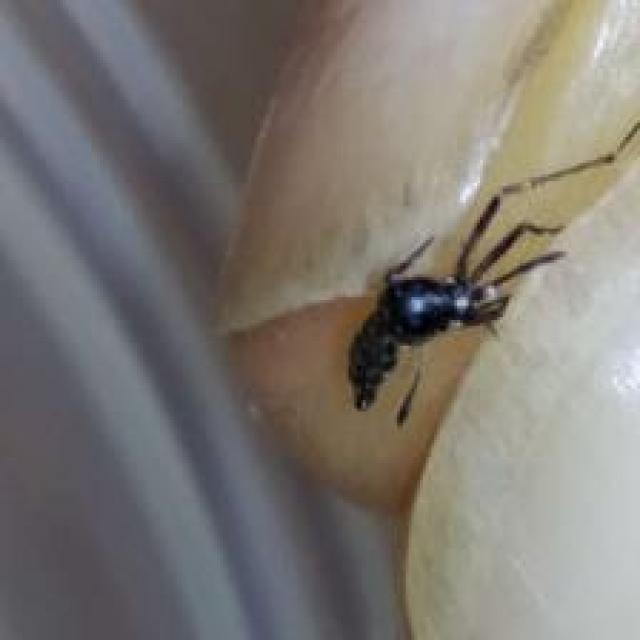Aedes albopictus: (344, 190, 567, 427)
